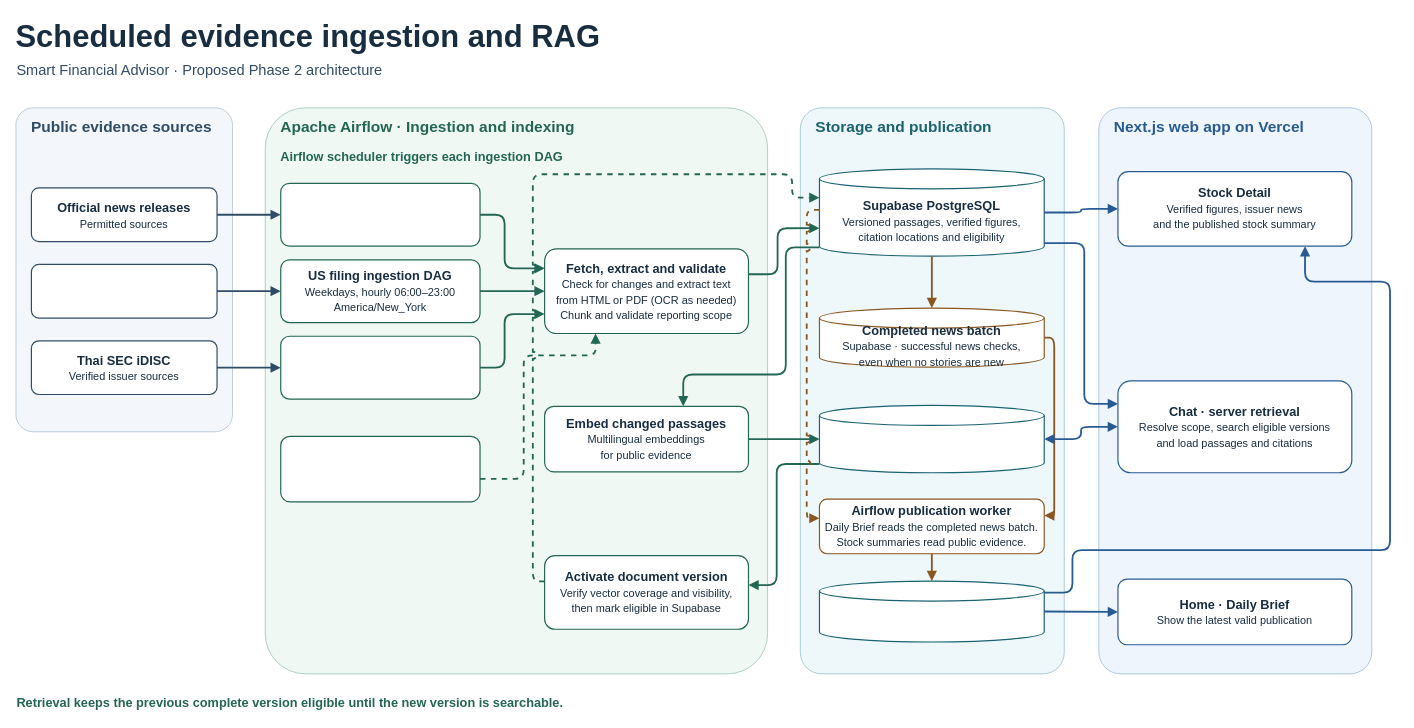
The diagram is 1414 pixels wide and 728 high, and some of its shapes have lost their labels. The centre of each missing label's shape, as x and y in pixels:
Backfill and reindex DAG Operator-triggered, bounded scope: the point at 380,468
News ingestion DAG Every hour at :00 and :30 Asia/Bangkok: the point at 380,214
Pinecone vector index Public vectors, passage IDs and scope metadata: the point at 931,438
Supabase PostgreSQL Shared Daily Brief and stock summaries: the point at 931,611
Thai filing ingestion DAG Weekdays at 09:00, 14:00 and 22:00 Asia/Bangkok: the point at 380,367
US SEC EDGAR Filings and Company Facts: the point at 123,290
